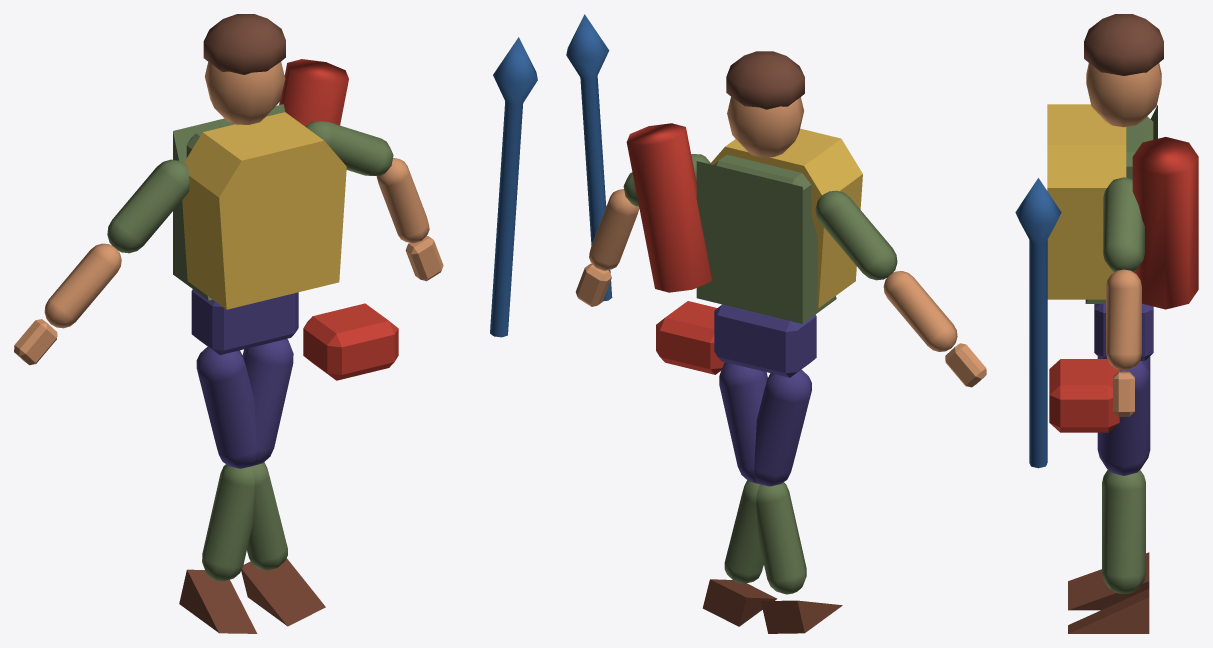
Rendered from adventurer.rustic.glb.
The picture shows the model from 3 angles, left to right: view 1: azimuth 30°, elevation 25°; view 2: azimuth 150°, elevation 25°; view 3: azimuth 270°, elevation 25°; orthographic projection. The views are drawn at different scales.
Parts seen in each view (by area): view 1: accessory.body, accessory.main-hand, accessory.waist, thigh.left, pelvis, shin.right, upper-arm.left, hair, thigh.right, accessory.back, head, forearm.left (+8 smaller); view 2: tunic, accessory.back, accessory.body, pelvis, thigh.left, accessory.main-hand, shin.right, upper-arm.left, hair, accessory.waist, thigh.right, head (+8 smaller); view 3: accessory.body, accessory.back, accessory.main-hand, shin.left, accessory.waist, hair, head, thigh.right, forearm.right, upper-arm.right, foot.left, foot.right (+3 smaller).
Boxes of the visible parts, <box> form: accessory.body: <box>182,112,346,309</box>; accessory.main-hand: <box>490,37,537,337</box>; accessory.waist: <box>303,303,398,380</box>; thigh.left: <box>196,346,256,468</box>; pelvis: <box>191,289,298,354</box>; shin.right: <box>202,464,254,581</box>; upper-arm.left: <box>107,159,189,253</box>; hair: <box>203,14,285,74</box>; thigh.right: <box>242,339,293,465</box>; accessory.back: <box>279,59,348,126</box>; head: <box>204,61,285,124</box>; forearm.left: <box>44,243,121,328</box>; tunic: <box>696,161,836,323</box>; accessory.back: <box>626,123,711,292</box>; accessory.body: <box>710,128,862,308</box>; pelvis: <box>714,304,816,377</box>; thigh.left: <box>754,369,811,486</box>; accessory.main-hand: <box>566,14,612,301</box>; shin.right: <box>756,482,806,594</box>; upper-arm.left: <box>815,190,897,280</box>; hair: <box>726,51,804,109</box>; accessory.waist: <box>656,301,724,374</box>; thigh.right: <box>719,362,767,483</box>; head: <box>727,97,803,157</box>; accessory.body: <box>1047,104,1126,299</box>; accessory.back: <box>1132,137,1198,309</box>; accessory.main-hand: <box>1015,178,1061,468</box>; shin.left: <box>1102,471,1145,593</box>; accessory.waist: <box>1049,359,1119,432</box>; hair: <box>1084,14,1163,75</box>; head: <box>1086,63,1161,127</box>; thigh.right: <box>1097,361,1150,475</box>; forearm.right: <box>1106,269,1141,370</box>; upper-arm.right: <box>1103,177,1144,272</box>; foot.left: <box>1068,589,1149,633</box>; foot.right: <box>1068,552,1149,610</box>.
Size of the model in its own units: 2.54 by 3.01 by 0.8353.
